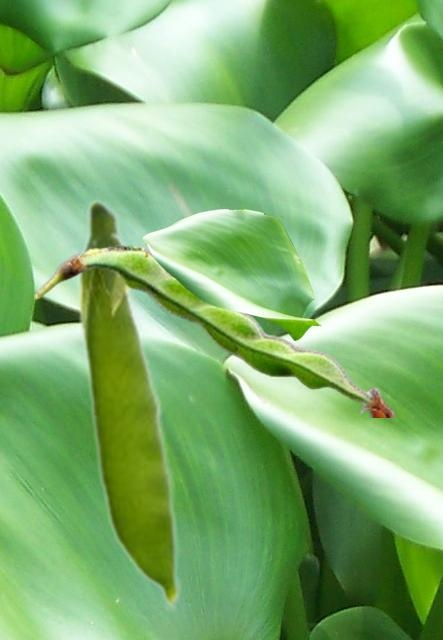pea: (34, 245, 395, 416), (76, 197, 182, 611)
